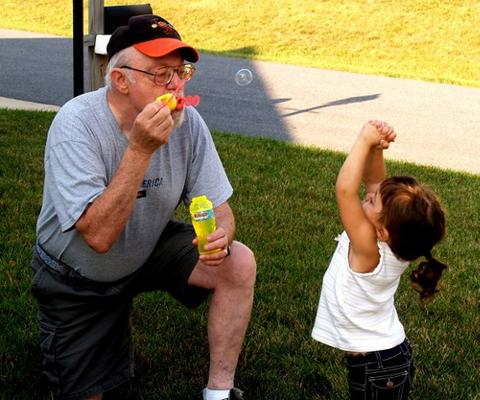person: (24, 11, 263, 400)
